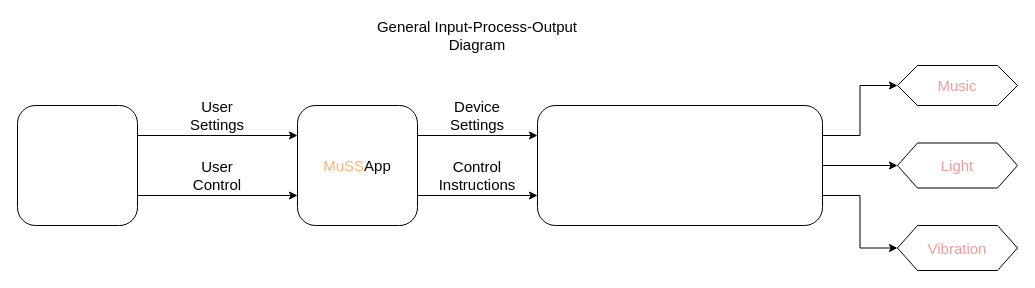
Image size: 1035x288. Some labels were removed from this diagram. Each missing label, with the centre of its shape:
"MuSS AP Device" goes at point (679, 165).
"User" goes at point (77, 165).
